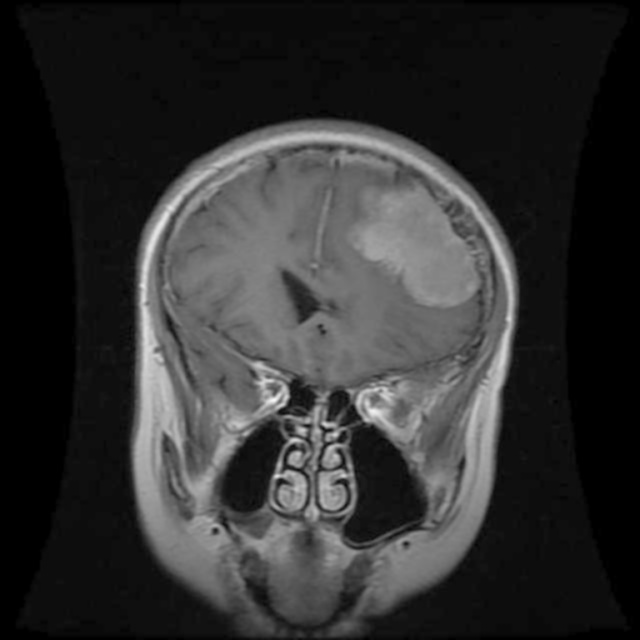meningioma tumor: (355, 172, 487, 308)
